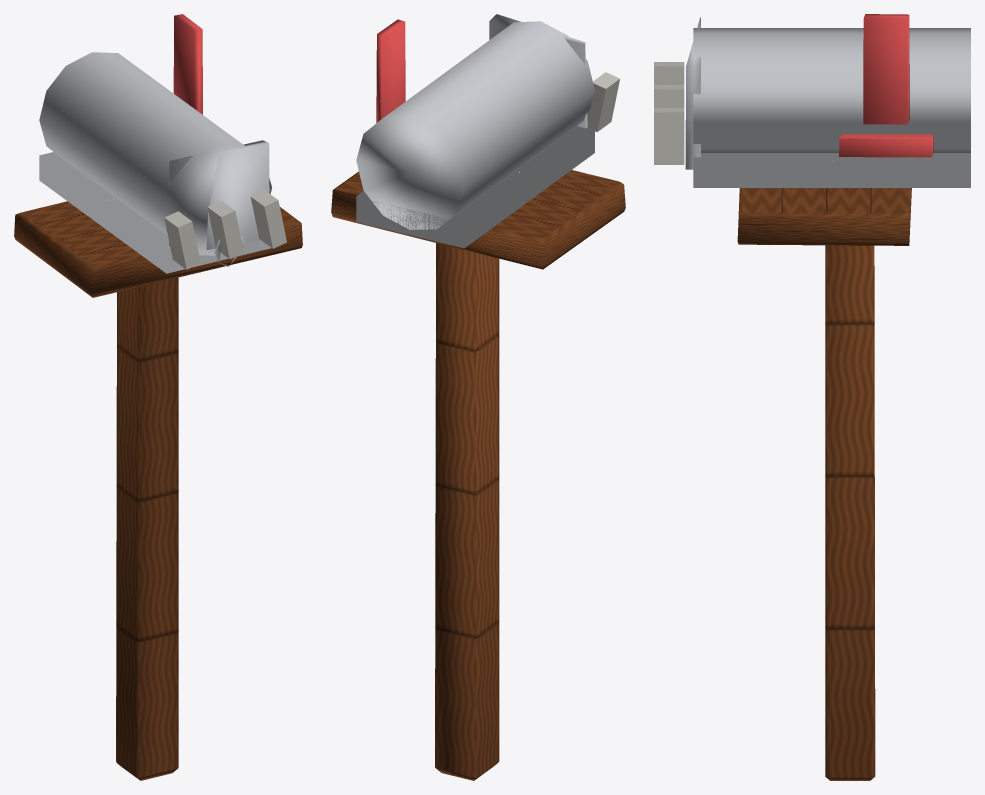
File: Mailbox.glb
The picture shows the model from 3 angles, left to right: view 1: azimuth 30°, elevation 25°; view 2: azimuth 150°, elevation 25°; view 3: azimuth 270°, elevation 25°; orthographic projection. The views are drawn at different scales.
Visible parts, largest first — view 1: suburban-mailbox; view 2: suburban-mailbox; view 3: suburban-mailbox.
Boxes of the visible parts, x1,y1,x2,y2 form: suburban-mailbox: [14, 14, 302, 780]; suburban-mailbox: [331, 14, 625, 780]; suburban-mailbox: [654, 14, 970, 780].
Size of the model in its own units: 0.44 by 1.44 by 0.525.
4 materials, 2 textured.
